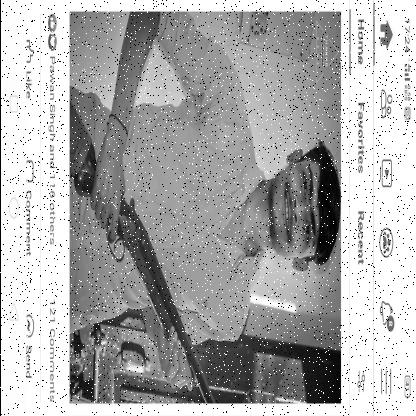rifle: (69, 99, 214, 404)
